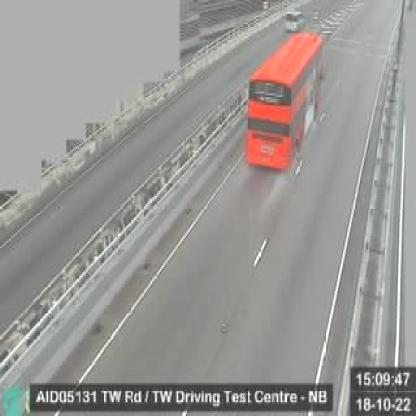Bus: (246, 33, 327, 171)
Car: (284, 9, 307, 34)
